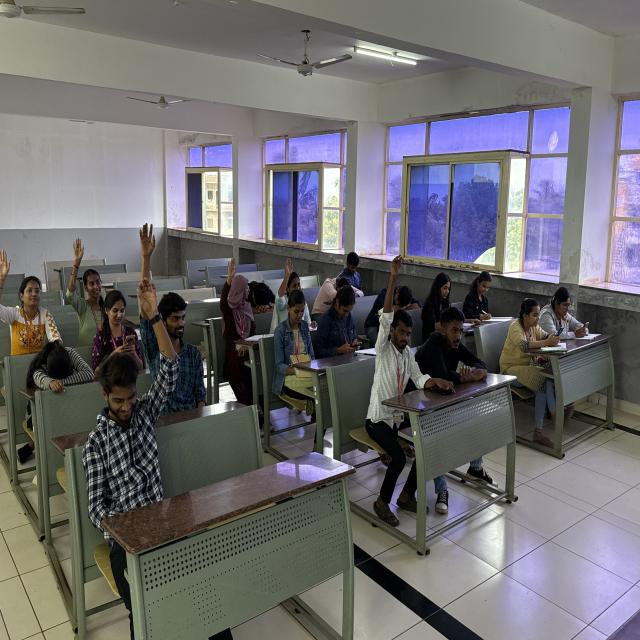Hand Rising: (86, 268, 178, 495), (127, 220, 211, 388), (363, 253, 433, 409), (208, 252, 263, 366), (61, 238, 108, 335), (273, 252, 306, 328)
Reading: (263, 288, 333, 404), (423, 271, 476, 330)
Sleeping: (19, 335, 93, 413)
Using Phone: (84, 285, 158, 392), (493, 292, 572, 363), (317, 283, 369, 362), (539, 280, 599, 344)
Writing: (458, 265, 515, 337)
